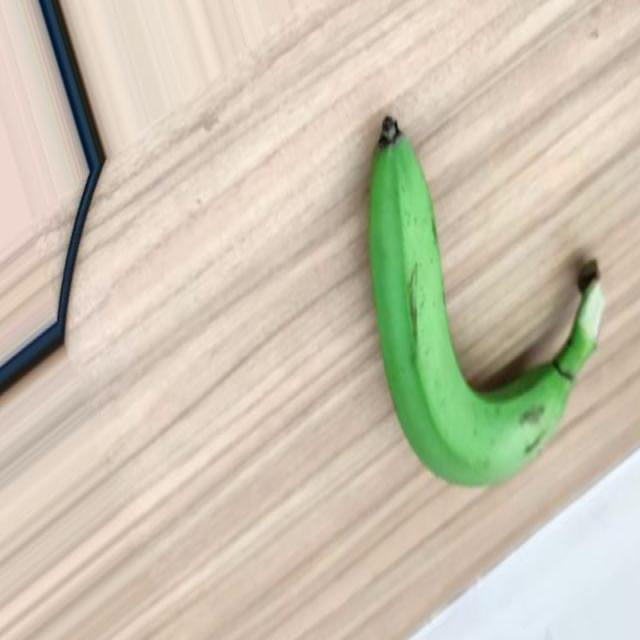Unripe: (364, 111, 605, 488)
